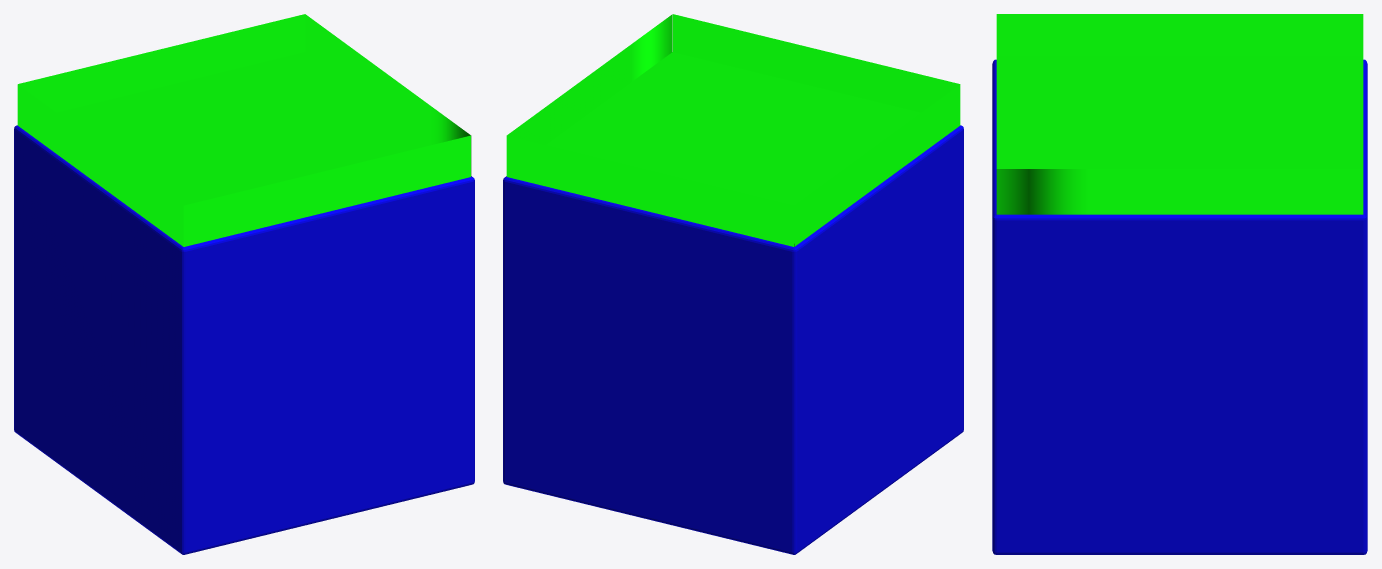
The model's file is grassCube_v008.fbx.
3 views of the same model, side by side, from view 1: azimuth 30°, elevation 25°; view 2: azimuth 150°, elevation 25°; view 3: azimuth 270°, elevation 25° (orthographic). The views are drawn at different scales.
Visible parts, largest first — view 1: grassCube_box_geo, grassCube_grass_geo; view 2: grassCube_box_geo, grassCube_grass_geo; view 3: grassCube_box_geo, grassCube_grass_geo.
Boxes of the visible parts, bbox=[...] form: grassCube_box_geo: bbox=[14, 125, 474, 554]; grassCube_grass_geo: bbox=[17, 14, 471, 246]; grassCube_box_geo: bbox=[503, 125, 963, 554]; grassCube_grass_geo: bbox=[506, 14, 960, 246]; grassCube_box_geo: bbox=[992, 59, 1367, 554]; grassCube_grass_geo: bbox=[996, 14, 1363, 214].
Bounding box in the file's own units: 200 × 227 × 200.
